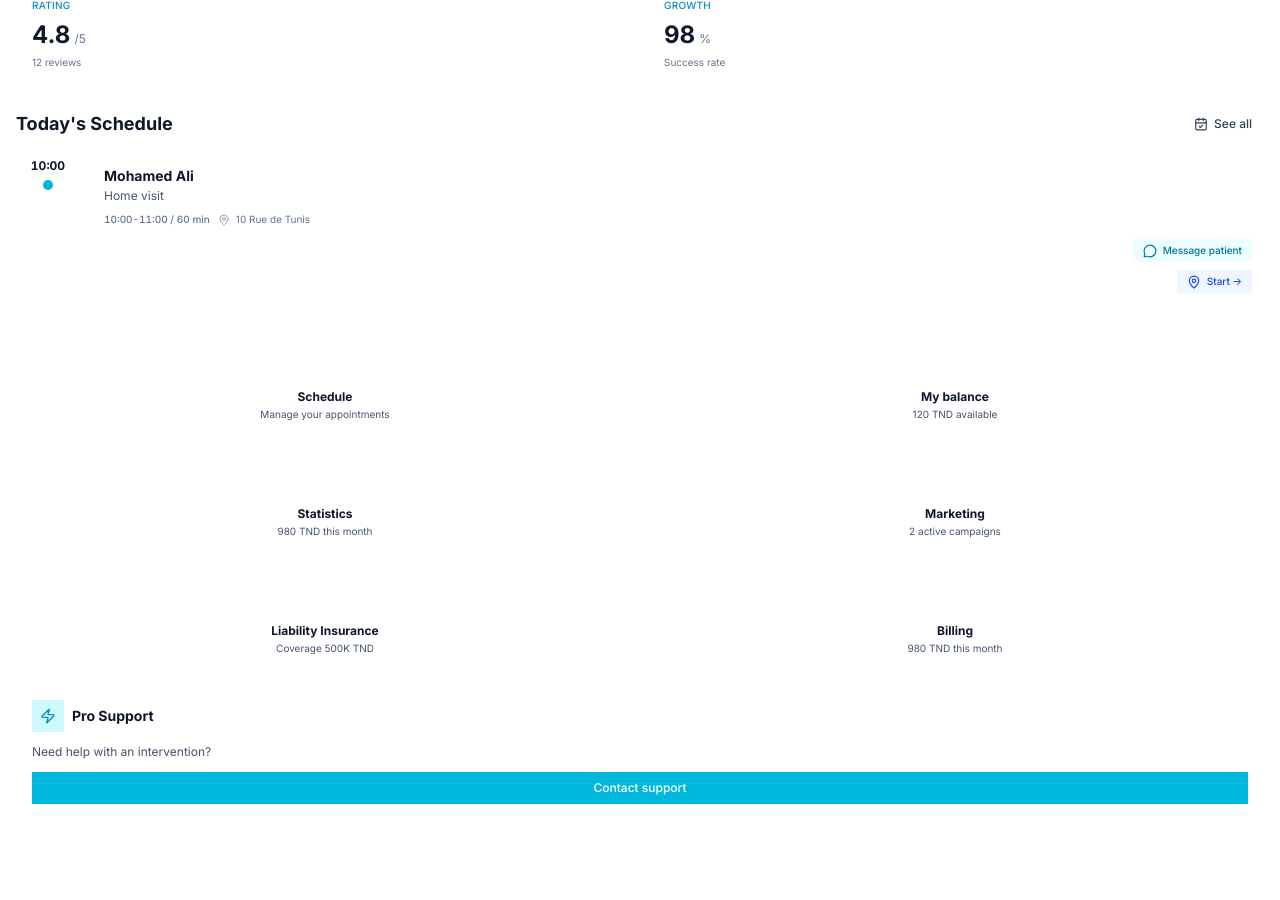
it: ProviderDashboardPage › uses a truthful close action in the support modal
This screenshot has width=1280, height=900.
(page scrolled)
Click the button "Contact support" at {"x": 640, "y": 788}, box [32,772,1248,804]
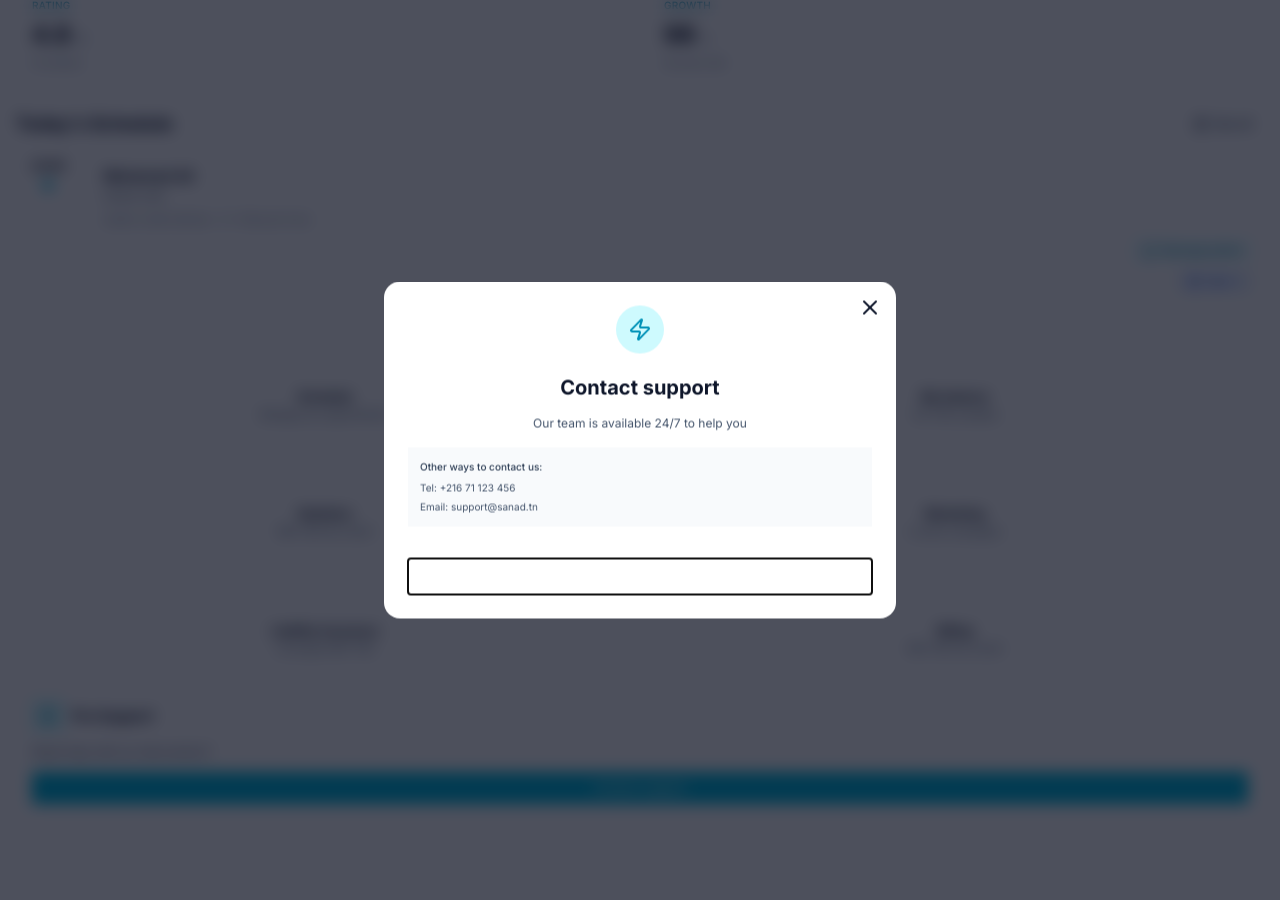
Expected: the text "Our team is available 24/7 to help you" is shown, [533,416,747,430]
Click the button named "Close" at {"x": 870, "y": 308}, box [856,294,884,322]
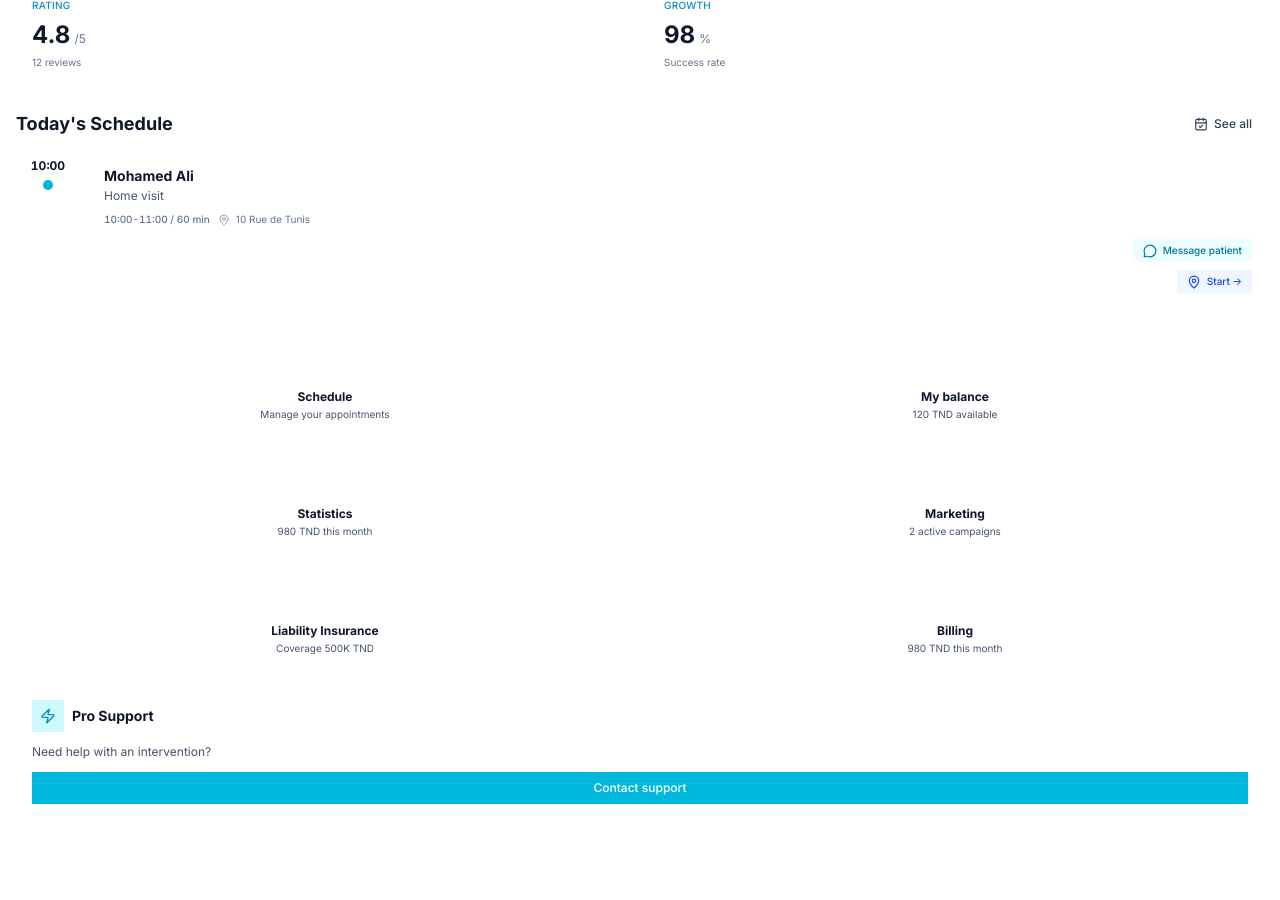
Expected: the text "Our team is available 24/7 to help you" is gone
